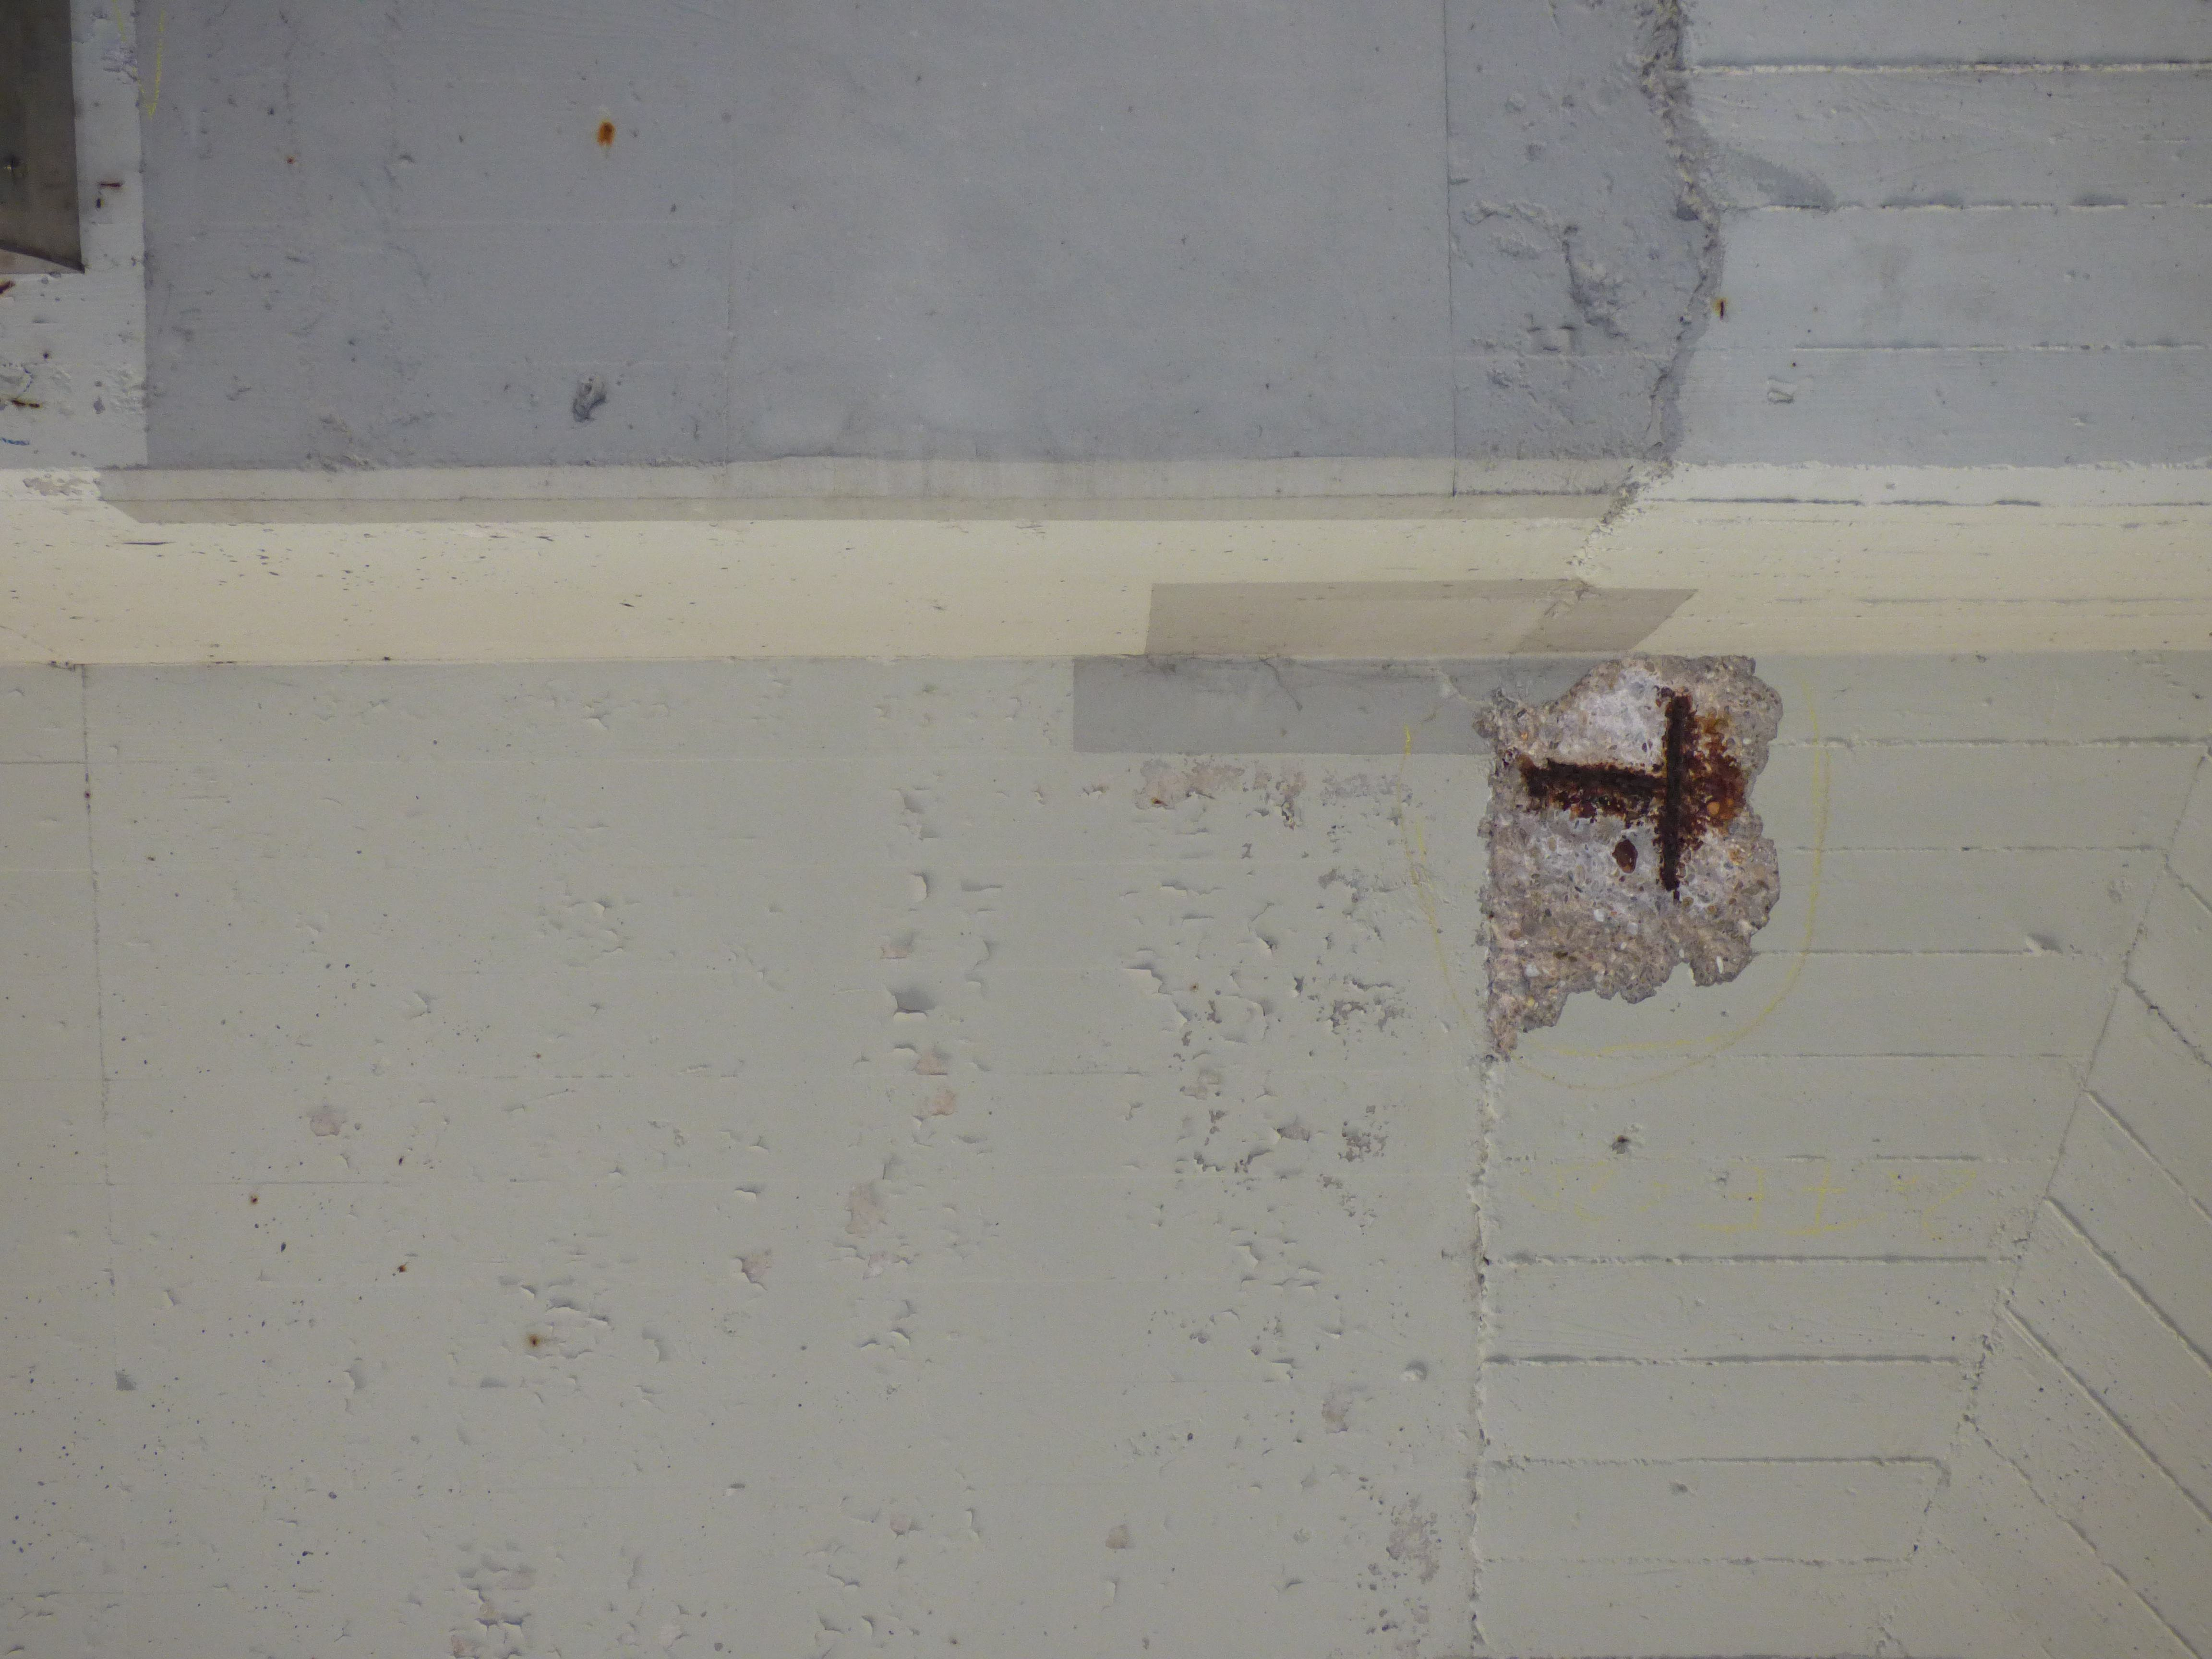Corrosion: (1521, 692, 1745, 892)
Exposed reinforcement: (1660, 699, 1683, 892), (1522, 765, 1662, 789)
Spalling: (1470, 653, 1785, 1063)
